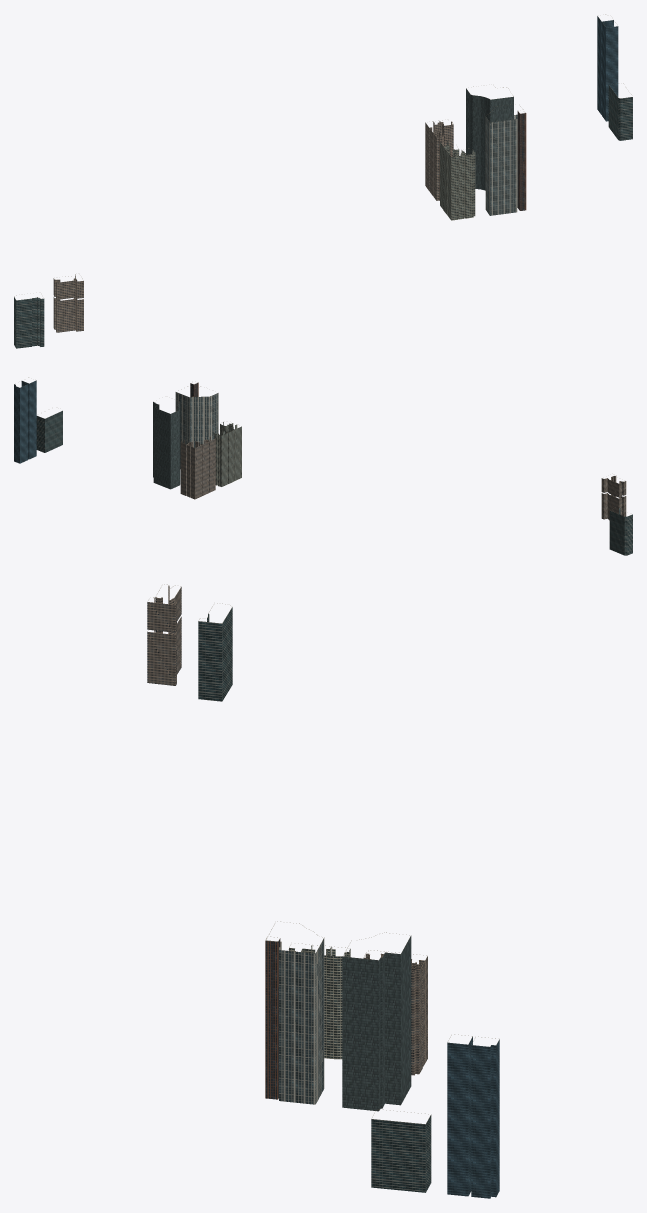
3 renders of one model, top to bottom at view 1: azimuth 30°, elevation 25°; view 2: azimuth 150°, elevation 25°; view 3: azimuth 270°, elevation 25°, orthographic. The views are drawn at different scales.
Parts seen in each view (by area): view 1: LimestonePiers, PairedWindows, HorizontalLouvers, RecessedBalconies, Facade005, BlueSpandrels, ClayFins; view 2: PairedWindows, Facade005, LimestonePiers, HorizontalLouvers, BlueSpandrels, RecessedBalconies; view 3: Facade005, BlueSpandrels, LimestonePiers, HorizontalLouvers, PairedWindows, ClayFins, RecessedBalconies.
Boxes of the visible parts, <box> form: LimestonePiers: <box>485,107,517,215</box>; PairedWindows: <box>53,121,453,332</box>; HorizontalLouvers: <box>14,85,632,348</box>; RecessedBalconies: <box>440,141,475,220</box>; Facade005: <box>466,88,513,190</box>; BlueSpandrels: <box>597,16,618,121</box>; ClayFins: <box>517,111,526,210</box>; PairedWindows: <box>180,437,626,520</box>; Facade005: <box>153,402,180,489</box>; LimestonePiers: <box>175,392,218,468</box>; HorizontalLouvers: <box>36,410,632,555</box>; BlueSpandrels: <box>14,380,36,463</box>; RecessedBalconies: <box>214,422,241,486</box>; Facade005: <box>342,936,411,1111</box>; BlueSpandrels: <box>447,1037,499,1198</box>; LimestonePiers: <box>266,938,324,1104</box>; HorizontalLouvers: <box>198,607,431,1192</box>; PairedWindows: <box>147,585,427,1075</box>; ClayFins: <box>265,938,280,1099</box>; RecessedBalconies: <box>289,945,350,1059</box>.
Bounding box in the file's own units: 1578 × 237 × 438.
8 materials, 8 textured.
